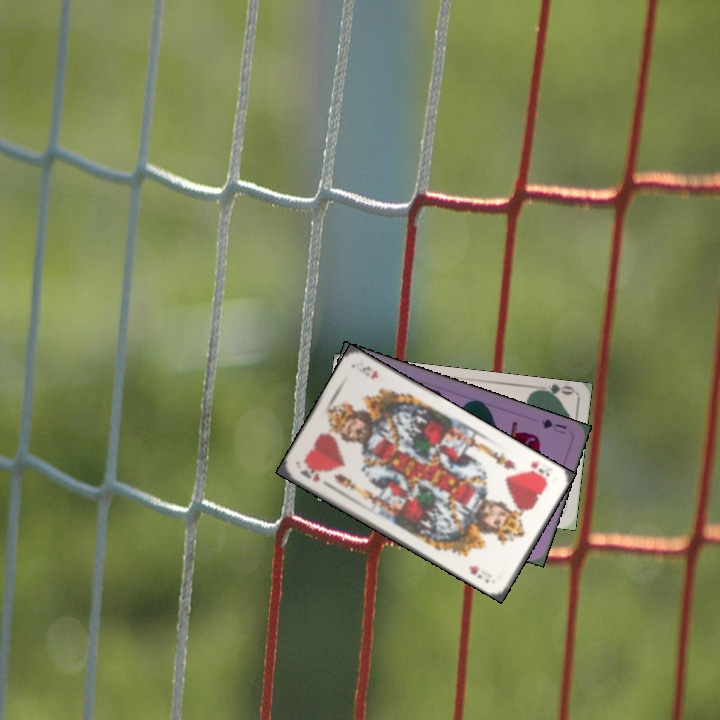GO: (534, 382, 576, 402)
GU: (537, 415, 570, 437)
HK: (523, 457, 552, 485), (296, 462, 322, 484)
